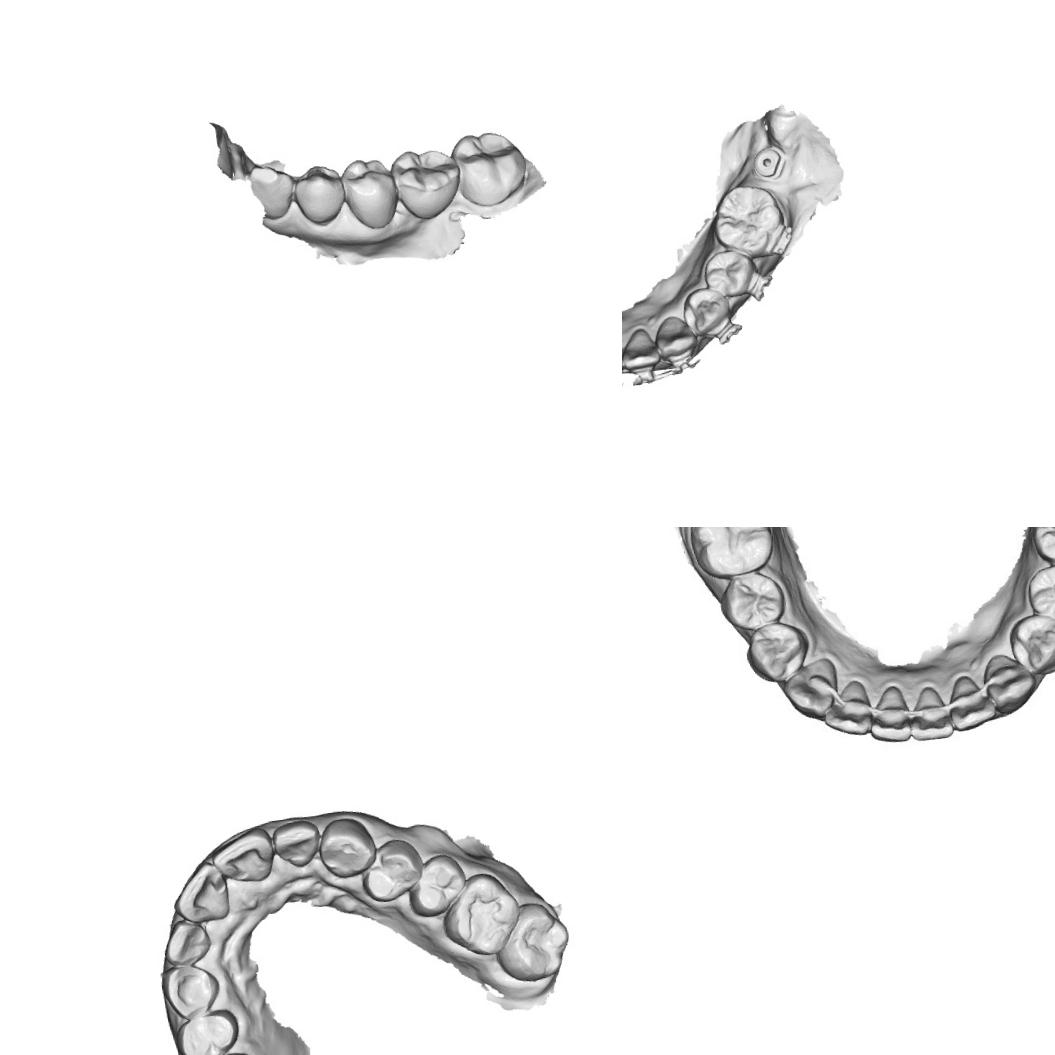canine: (316, 813, 381, 882), (157, 958, 223, 1023), (780, 656, 842, 722), (980, 649, 1037, 712), (246, 160, 299, 224), (650, 311, 699, 360)
implant: (749, 142, 788, 182)
incisor: (170, 857, 236, 927), (208, 823, 276, 885), (862, 677, 920, 749), (819, 676, 879, 740), (902, 679, 958, 747), (944, 674, 999, 736), (269, 811, 325, 871), (160, 915, 214, 968), (622, 324, 662, 373)
molar: (436, 868, 526, 962), (490, 898, 574, 986), (446, 127, 531, 212), (708, 178, 789, 262), (388, 144, 465, 224), (687, 527, 778, 577)
premolar: (338, 154, 402, 234), (356, 834, 429, 904), (740, 617, 812, 687), (404, 850, 472, 920), (719, 570, 788, 632), (290, 161, 348, 228), (170, 1006, 243, 1055), (1002, 610, 1055, 676), (699, 246, 759, 302), (678, 284, 734, 337), (1022, 557, 1055, 627)
